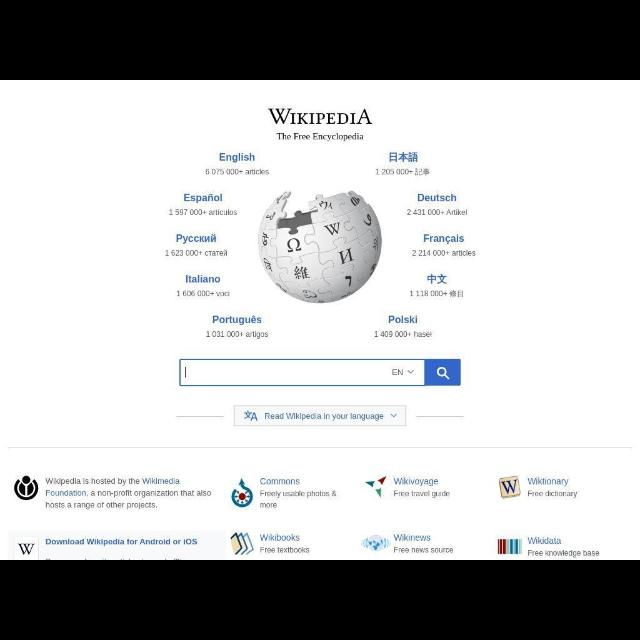button: (426, 360, 460, 386)
icon: (434, 364, 452, 380), (406, 368, 416, 376), (391, 410, 397, 420)
image: (256, 190, 384, 304), (268, 105, 372, 128), (14, 476, 40, 502), (232, 478, 252, 508), (230, 532, 253, 554), (362, 536, 391, 552), (366, 477, 386, 498), (500, 477, 520, 498), (498, 538, 522, 554), (18, 542, 36, 556)
input: (180, 359, 424, 385)
text: (46, 477, 212, 509), (260, 488, 338, 509), (43, 536, 199, 546), (264, 412, 384, 422), (278, 133, 364, 143), (528, 548, 602, 558), (374, 166, 431, 178), (205, 330, 269, 340), (165, 248, 228, 258), (212, 314, 264, 326), (372, 330, 433, 340), (407, 290, 465, 300), (258, 544, 312, 554), (411, 249, 477, 257), (182, 192, 224, 204), (168, 210, 238, 217), (218, 150, 258, 162), (394, 546, 454, 554), (392, 477, 438, 487), (394, 490, 451, 498), (175, 290, 231, 298), (422, 234, 464, 244), (260, 476, 302, 486), (528, 476, 568, 486), (528, 490, 578, 498), (260, 533, 300, 543), (204, 168, 270, 174), (177, 234, 216, 244), (184, 275, 222, 285), (406, 209, 469, 215), (388, 150, 419, 162), (385, 314, 419, 324), (417, 194, 458, 202), (393, 532, 431, 540), (425, 274, 449, 286), (529, 537, 563, 545), (244, 410, 258, 422), (391, 368, 404, 378)
